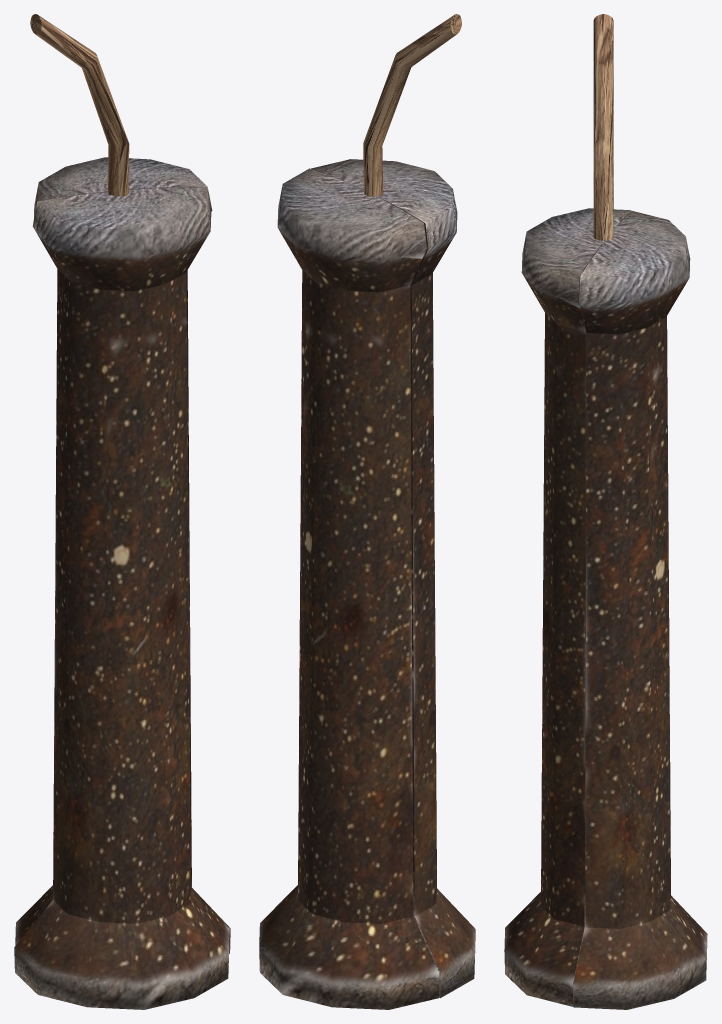
File: HandBam.fbx
3 views of the same model, side by side, from view 1: azimuth 30°, elevation 25°; view 2: azimuth 150°, elevation 25°; view 3: azimuth 270°, elevation 25° (orthographic). The views are drawn at different scales.
Parts seen in each view (by area): view 1: OilTank001; view 2: OilTank001; view 3: OilTank001.
Part boxes in pixels (box(x1,y1,x2,y2)): OilTank001: box(14, 14, 230, 1009); OilTank001: box(259, 14, 475, 1009); OilTank001: box(504, 14, 707, 1009).
Bounding box in the file's own units: 17.37 × 83.89 × 16.85.
Materials: 2 (2 with a texture image).
